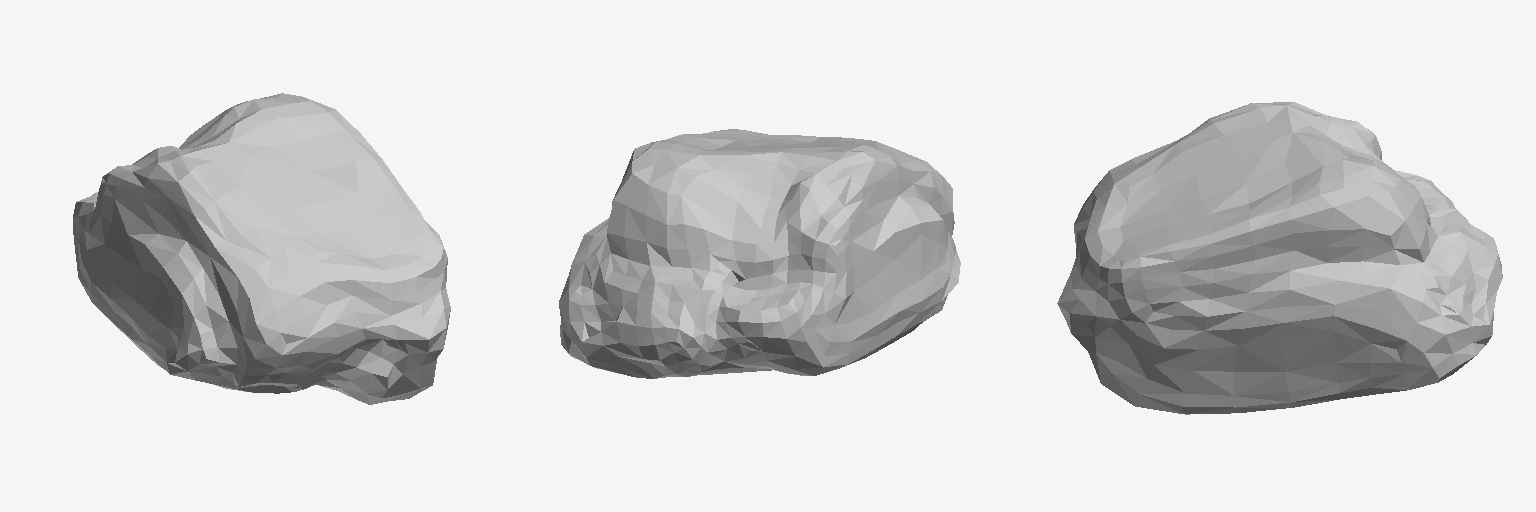
Rendered from Rock_1.OBJ.
The picture shows the model from 3 angles: view 1: azimuth 30°, elevation 25°; view 2: azimuth 150°, elevation 25°; view 3: azimuth 270°, elevation 25°; orthographic projection.
Size of the model in its own units: 27.52 by 22.49 by 39.07.